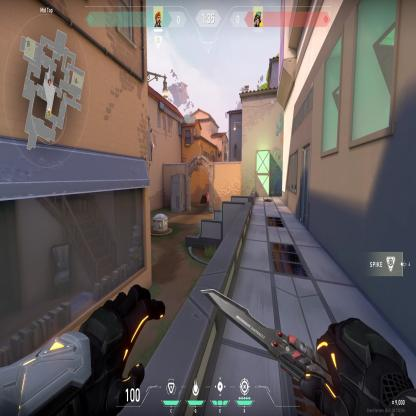enemy: (205, 190, 209, 210)
